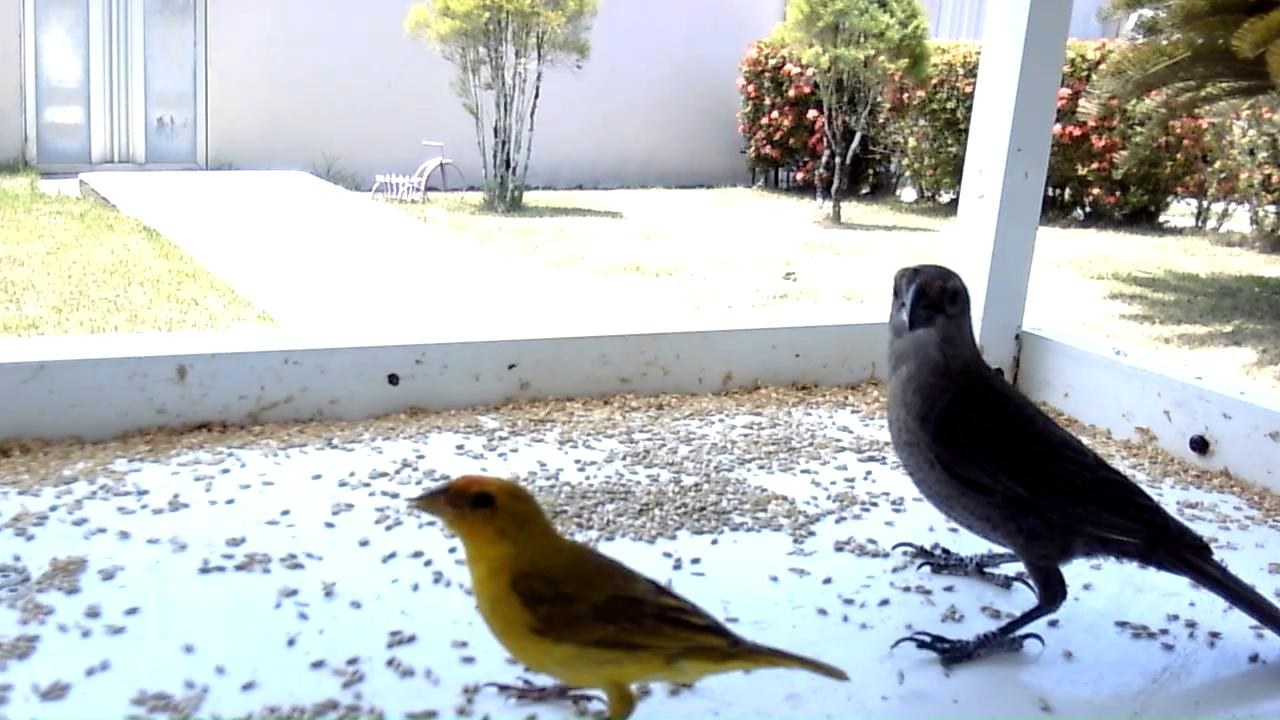canario_do_amazonas: (406, 474, 855, 720)
chupim: (883, 261, 1280, 673)
